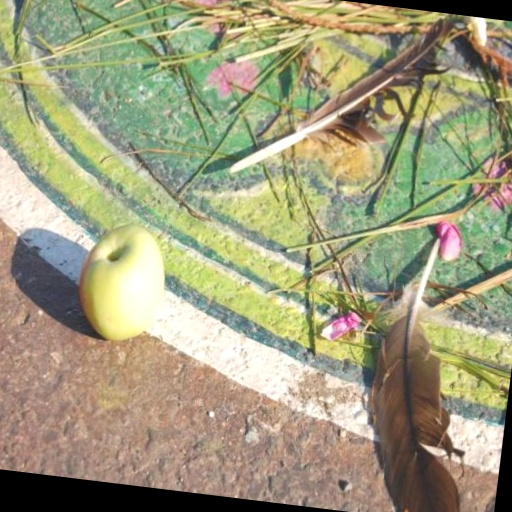fruit: (79, 225, 163, 340)
